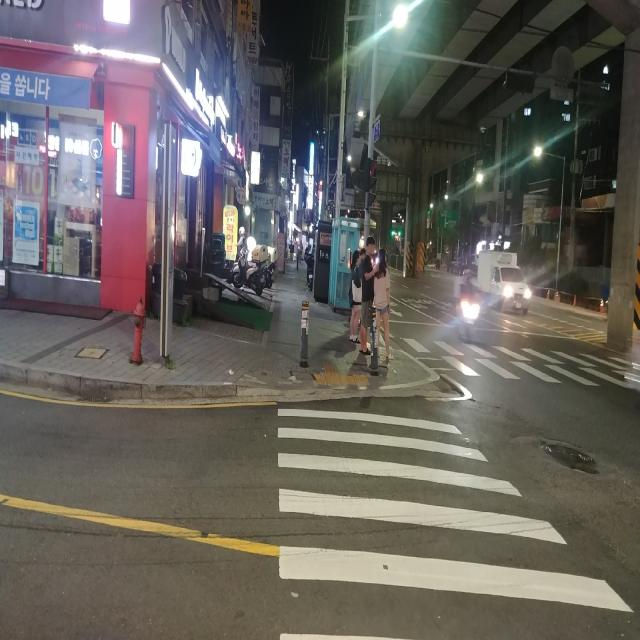횡단보도: (275, 405, 636, 640)
